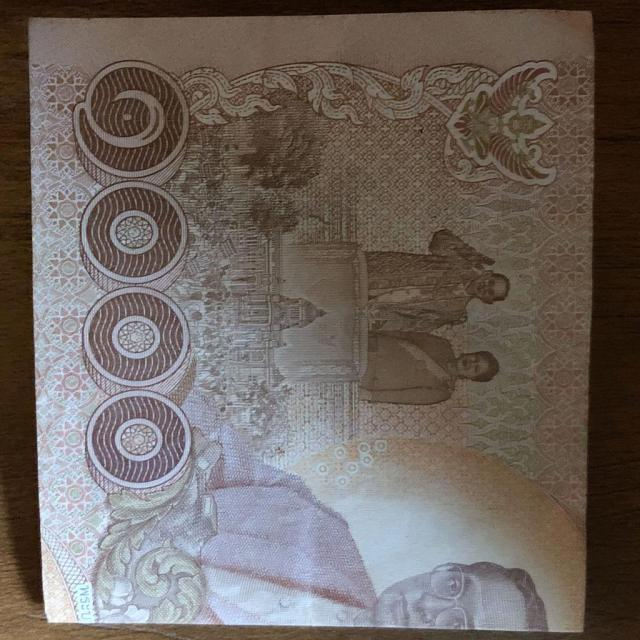THAI1000: (29, 11, 596, 635)
